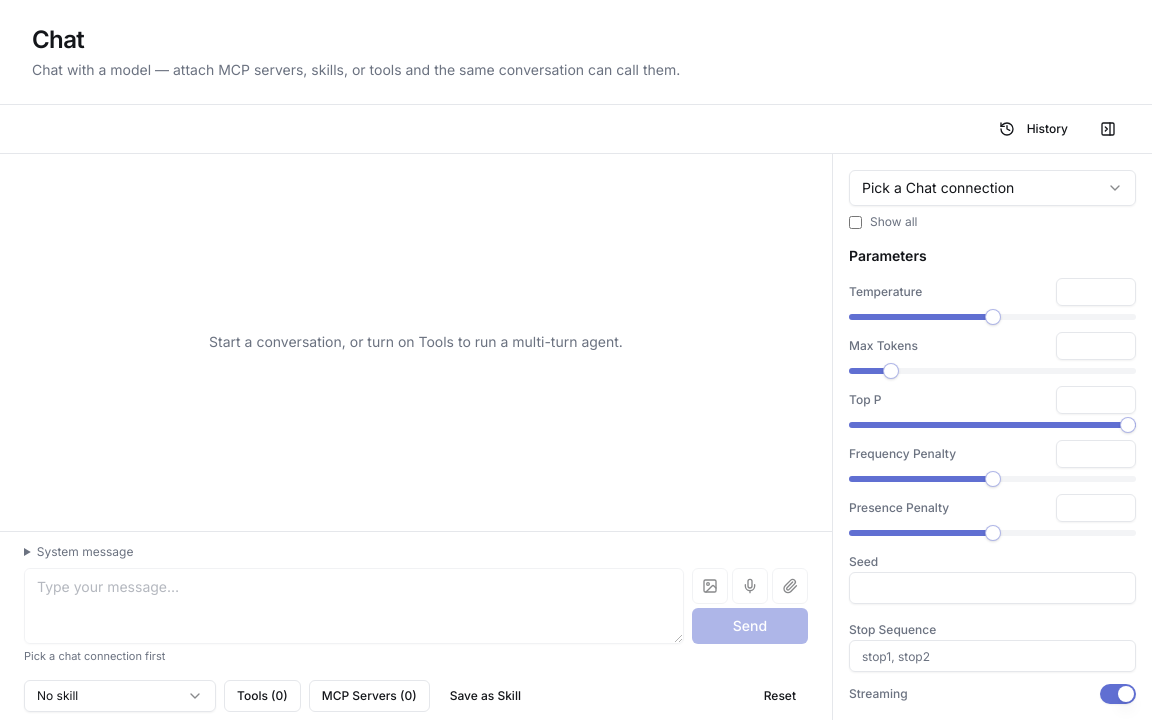
Scenario: AgentPage › tools-off: unified endpoint reads as plain streaming chat › renders one growing assistant bubble, no tool cards, running=false after done
Click the dropdown labelled "Pick a Chat connection" at [992, 188], box [849,170,1136,206]
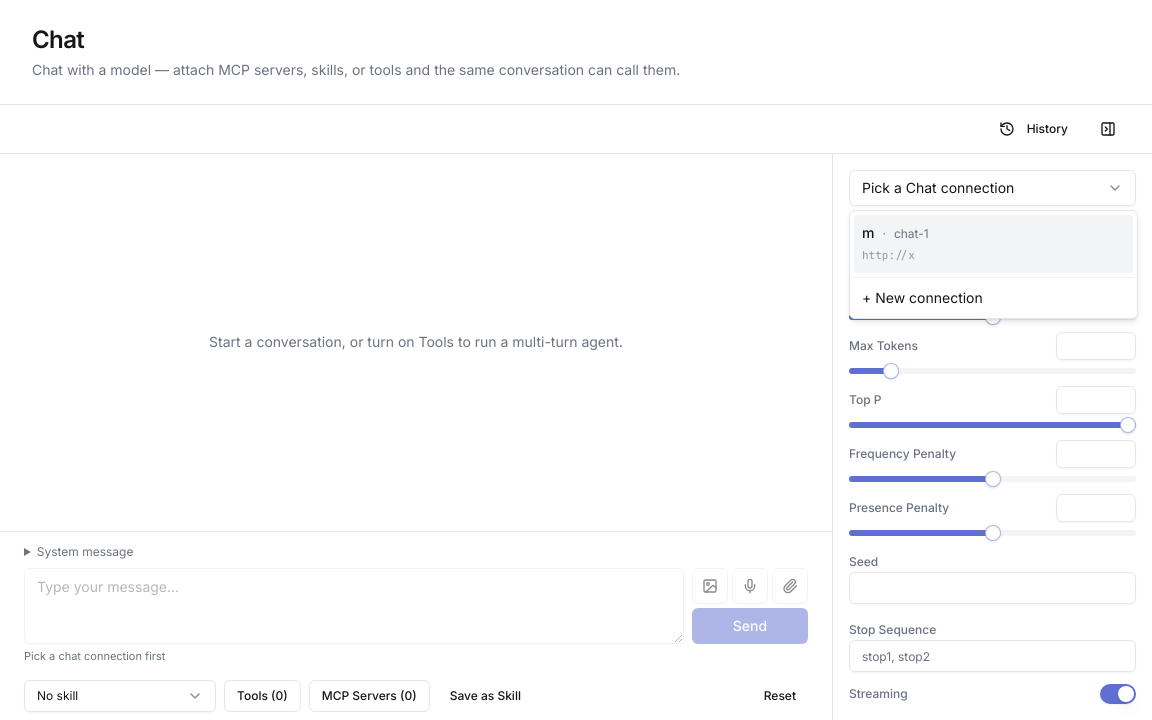
Click the option "m · chat-1 http://x" at [911, 234], box [854,215,1133,273]
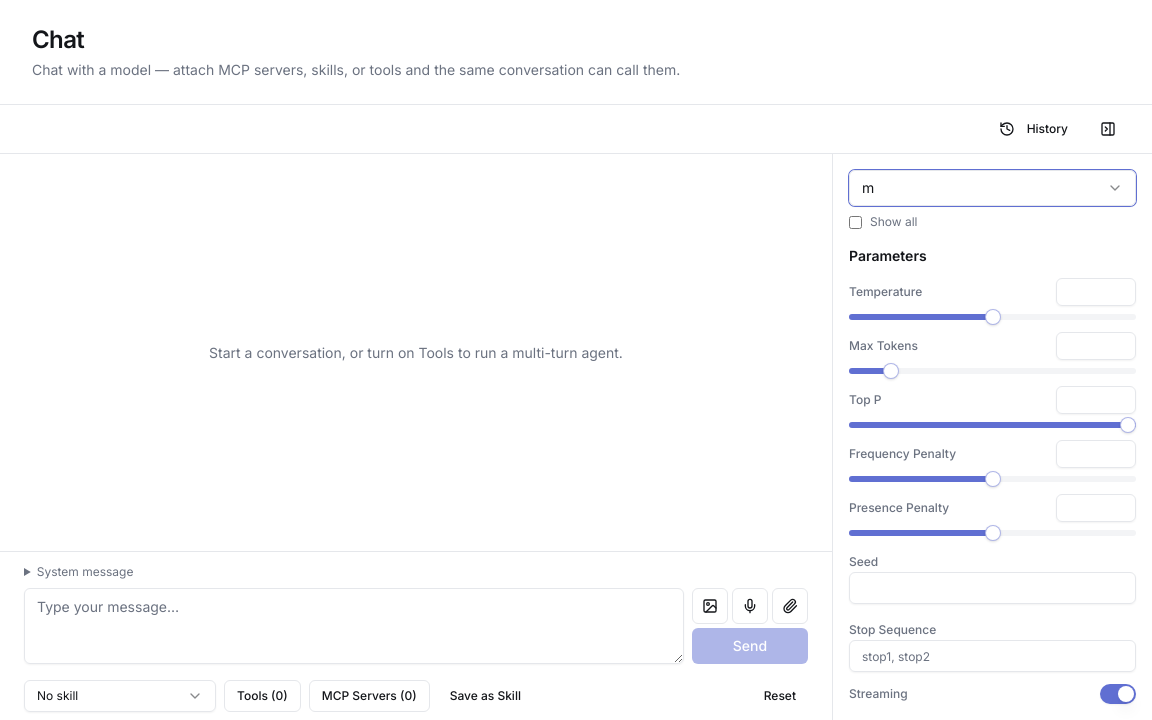
Type "hi" into the text box with placeholder "Type your message…" at [354, 626], box [24,588,684,664]
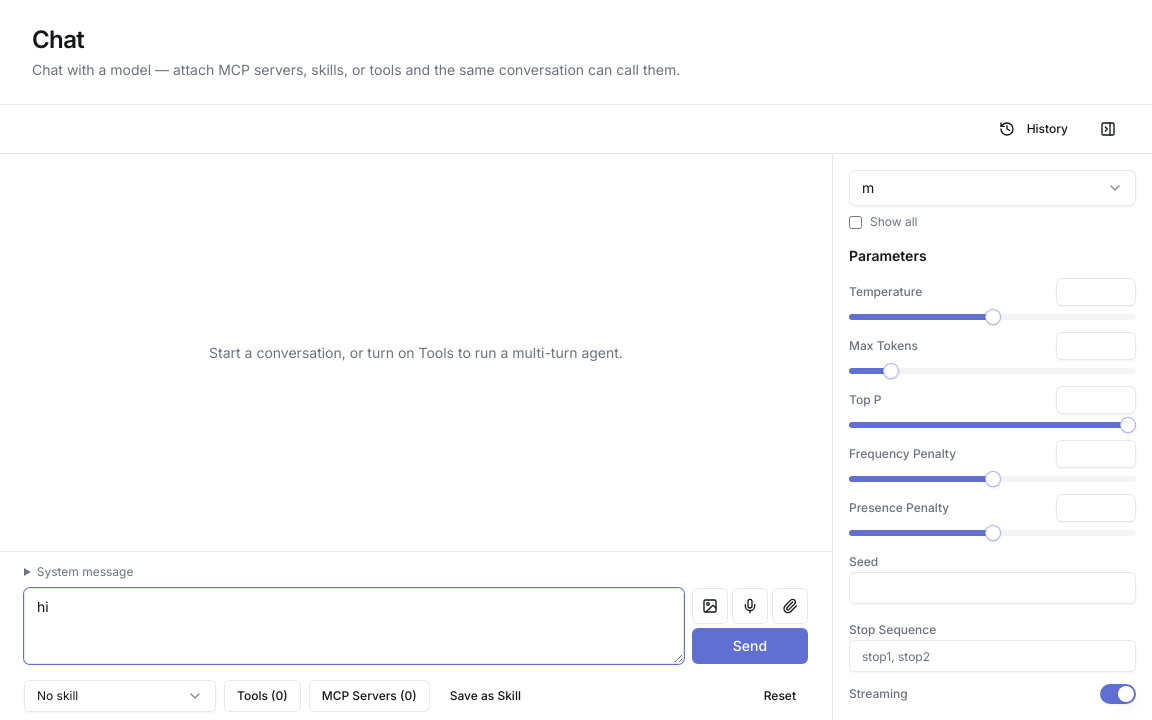
Click the button "Send" at [750, 646], box [692,628,808,664]
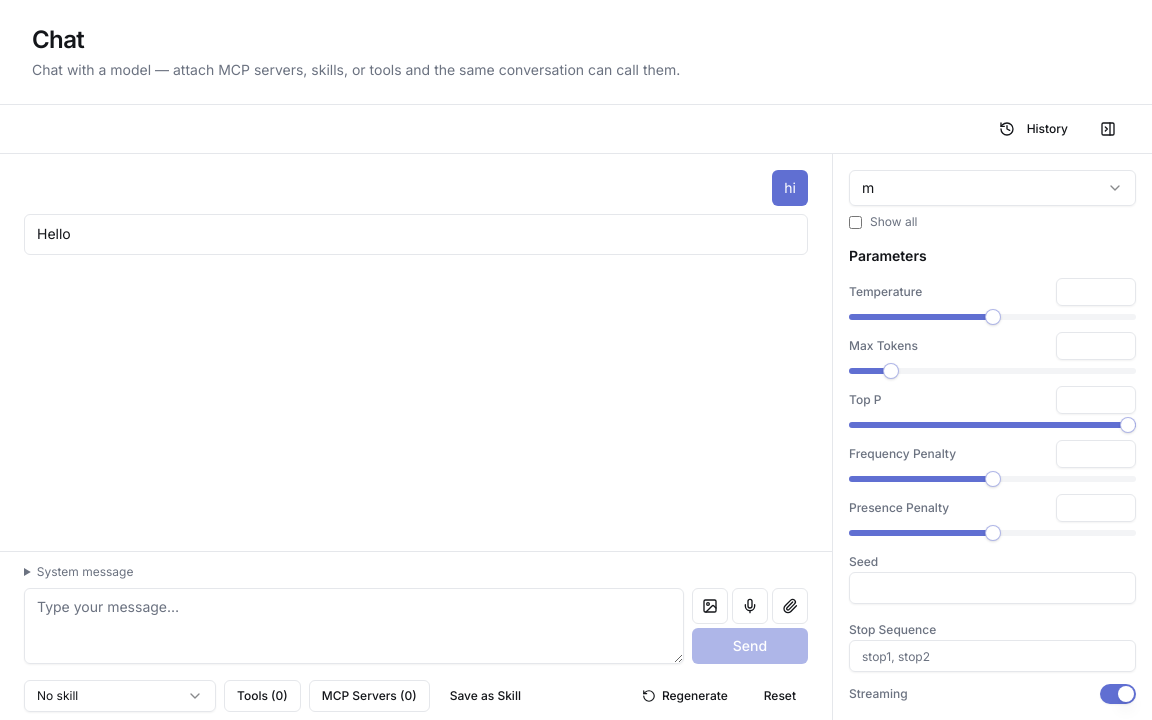
Now the text "Hello" is shown, box [37,225,71,242]
Now the number of elements with test id "assistant-bubble" is 1, box [24,214,808,255]
